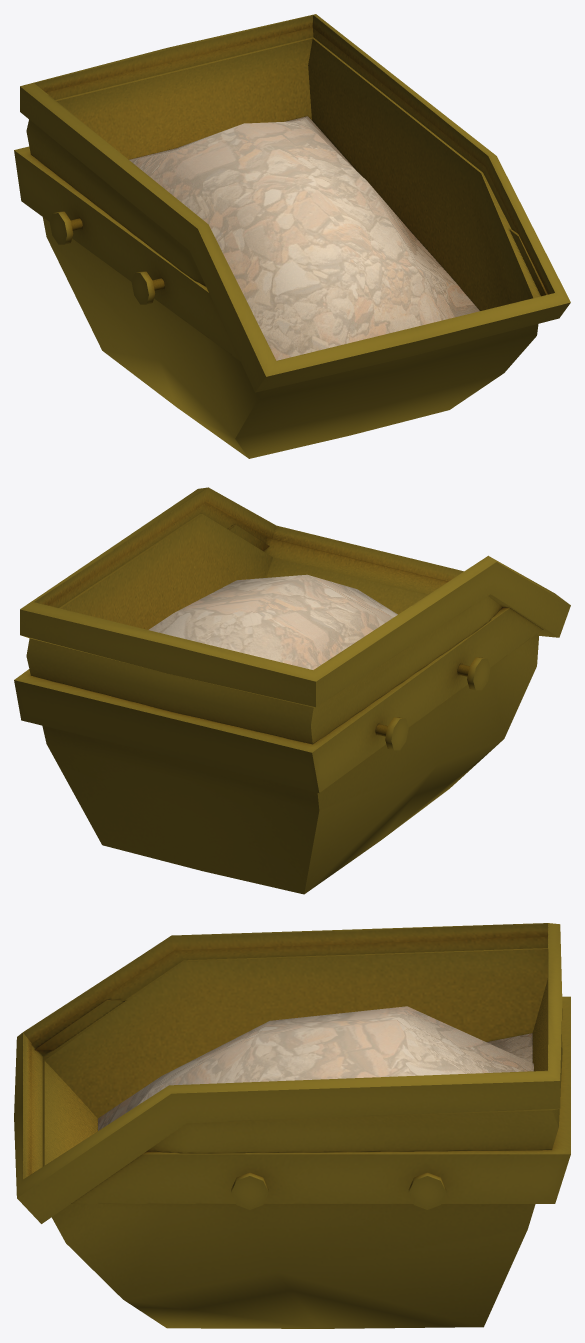
Rendered from dumpster.fbx.
The picture shows the model from 3 angles, top to bottom: view 1: azimuth 30°, elevation 25°; view 2: azimuth 150°, elevation 25°; view 3: azimuth 270°, elevation 25°; orthographic projection. The views are drawn at different scales.
Visible parts, largest first — view 1: Cube.004; view 2: Cube.004; view 3: Cube.004.
Boxes of the visible parts, x1,y1,x2,y2 form: Cube.004: (14,14,570,458); Cube.004: (14,487,570,894); Cube.004: (14,923,570,1328).
Bounding box in the file's own units: 314 × 227 × 409.
